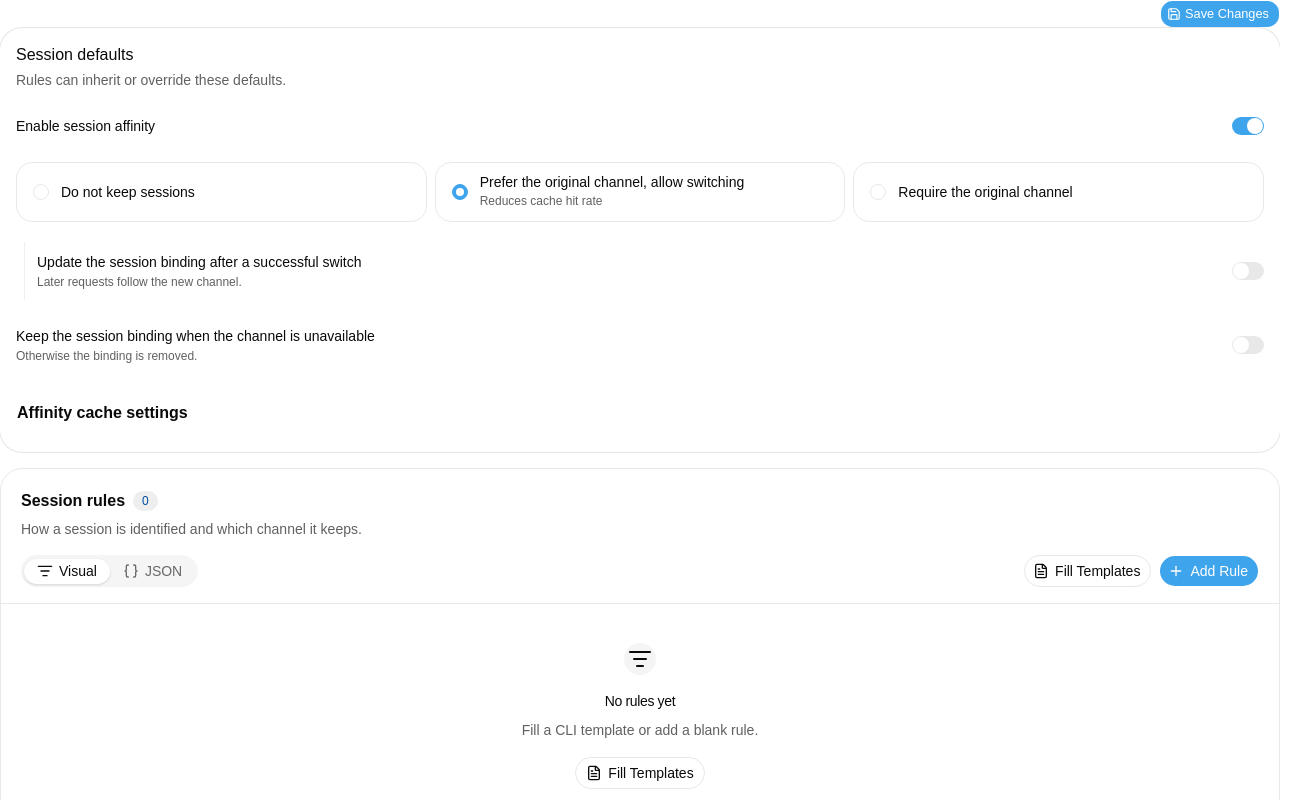
Scenario: the empty state can fill templates without saving them to the server
Expected: the text "No rules yet" is shown, [605, 691, 675, 711]
Step 1. Click the button "Fill Templates" below "Fill a CLI template or add a blank rule." → x=640, y=773, box [575, 757, 705, 789]
(page scrolled)
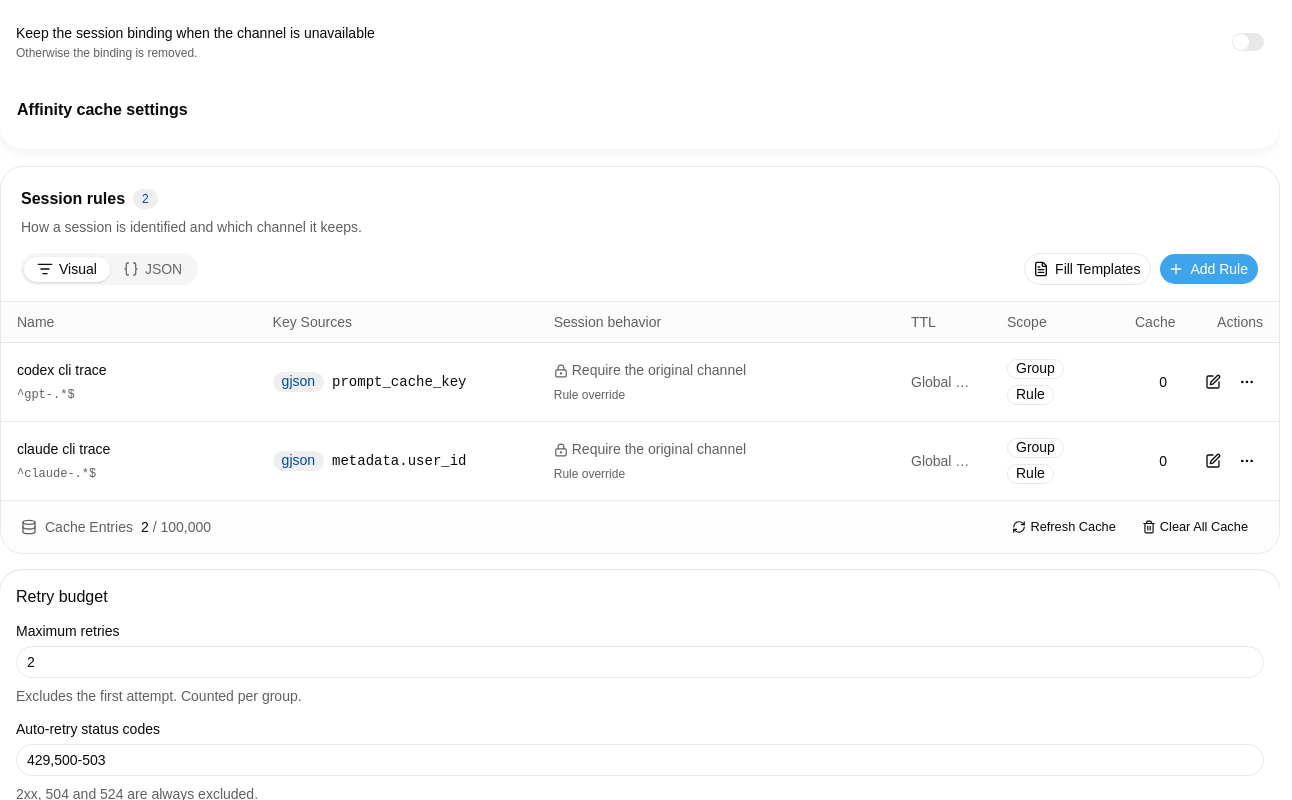
Expected: the table shows "codex cli trace", [17, 362, 106, 378]
Expected: the table shows "claude cli trace", [17, 441, 110, 457]
Expected: the text "No rules yet" is gone
